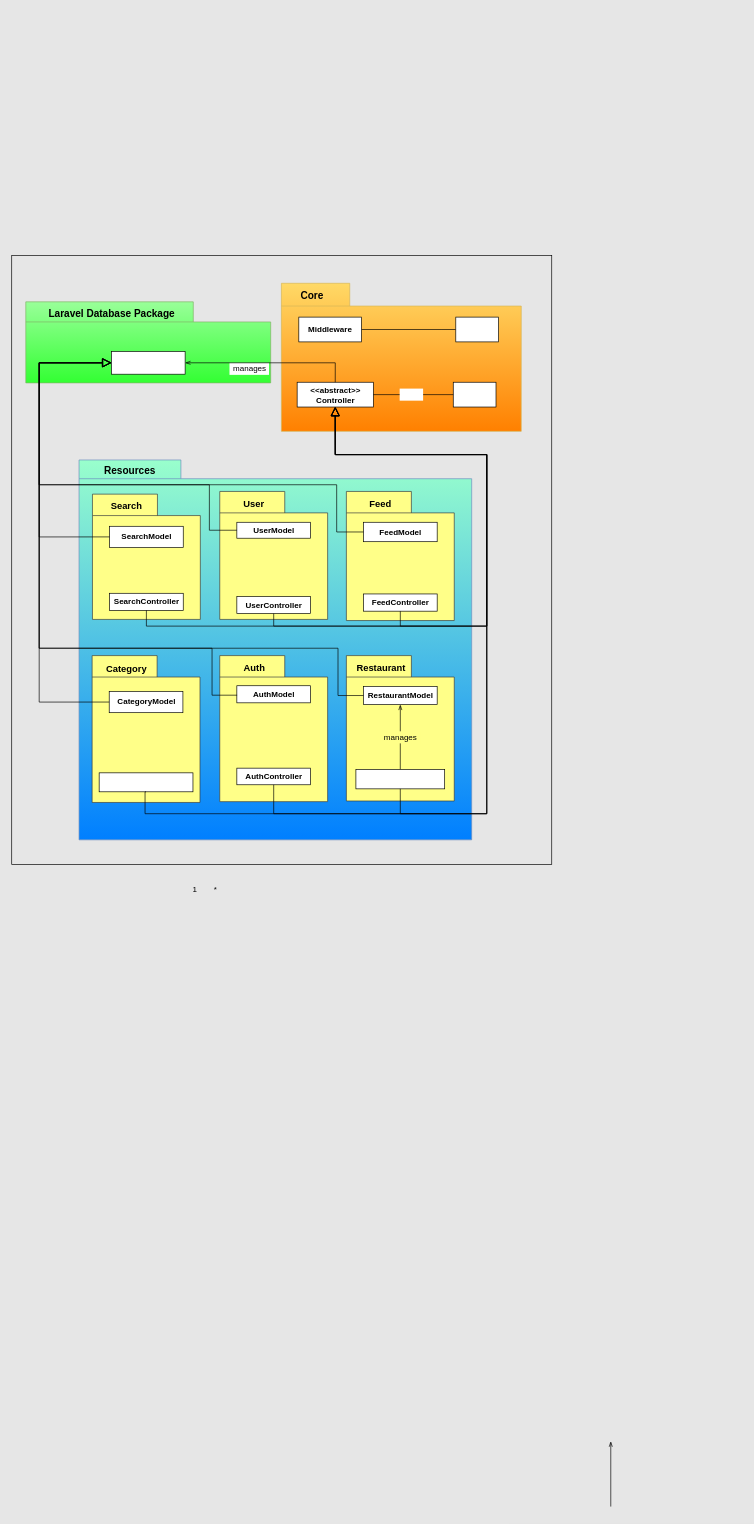
Image size: 754x1524. Some labels were removed from this diagram. The shapes that lost their labels are listed below. From the top down, each one's centre as x and y in pixels, then its label:
point 477,329: Router
point 148,362: Model
point 411,394: uses
point 474,394: Validator
point 145,782: CategoryController
point 400,779: RestaurantController
